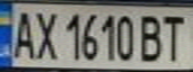0: (115, 11, 139, 62)
1: (60, 8, 81, 61), (97, 10, 118, 61)
6: (78, 10, 100, 61)
A: (9, 7, 39, 61)
B: (136, 11, 166, 63)
T: (157, 11, 190, 62)
X: (30, 7, 60, 61)
